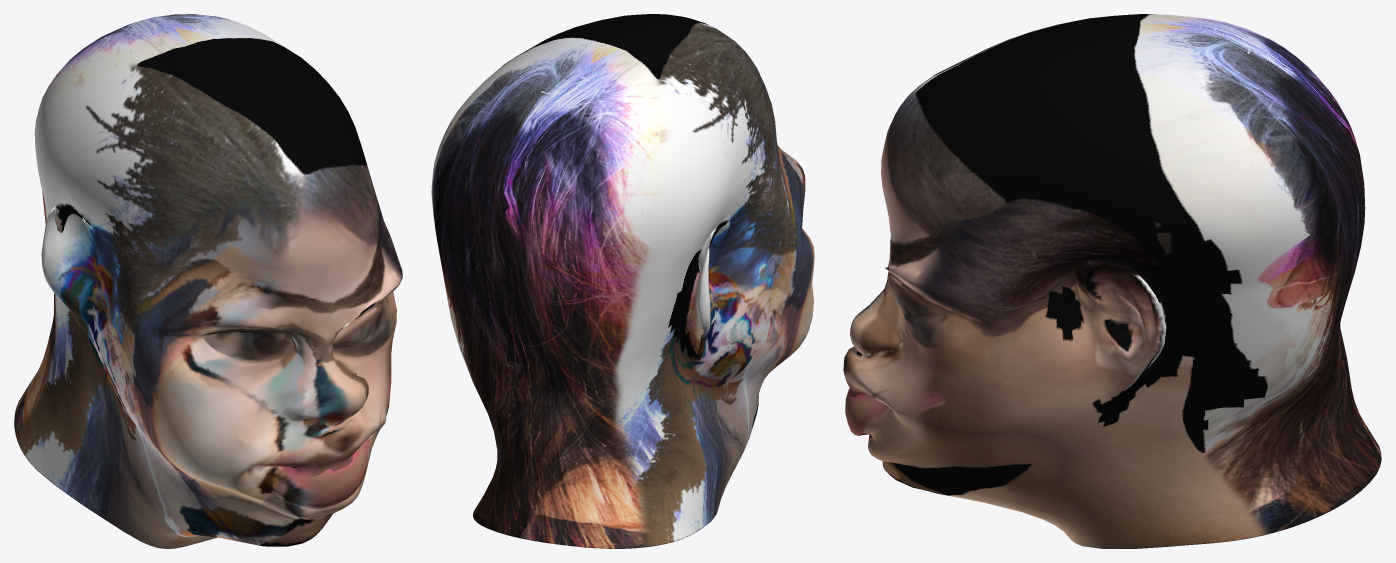
3 renders of one model, left to right at view 1: azimuth 30°, elevation 25°; view 2: azimuth 150°, elevation 25°; view 3: azimuth 270°, elevation 25°, orthographic. The views are drawn at different scales.
Parts seen in each view (by area): view 1: FaceBuilderHead; view 2: FaceBuilderHead; view 3: FaceBuilderHead.
Part boxes in pixels (bbox=[...]): FaceBuilderHead: bbox=[14, 14, 402, 548]; FaceBuilderHead: bbox=[431, 14, 814, 548]; FaceBuilderHead: bbox=[843, 14, 1381, 548].
Bounding box in the file's own units: 1.1 × 1.84 × 1.76.
Materials: 1 (1 with a texture image).
